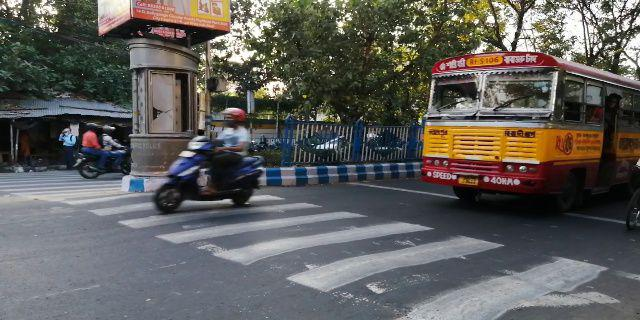Bus: (415, 50, 640, 207)
Motorbike: (147, 104, 269, 217)
